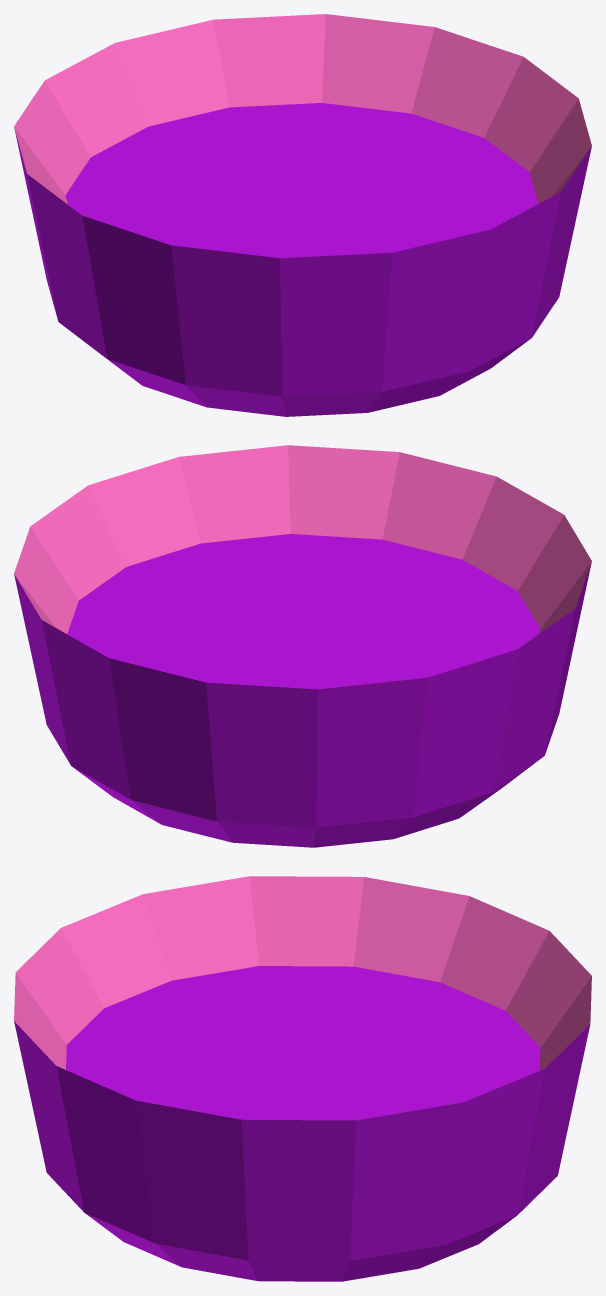
File: Final_Final_Stage.fbx
3 views of the same model, one above another, from view 1: azimuth 30°, elevation 25°; view 2: azimuth 150°, elevation 25°; view 3: azimuth 270°, elevation 25° (orthographic).
Visible parts, largest first — view 1: Arena_Model; view 2: Arena_Model; view 3: Arena_Model.
Part boxes in pixels (x1=…): Arena_Model: x1=14, y1=14, x2=591, y2=416; Arena_Model: x1=14, y1=445, x2=591, y2=847; Arena_Model: x1=14, y1=876, x2=591, y2=1281.
Size of the model in its own units: 1579 by 587 by 1579.
